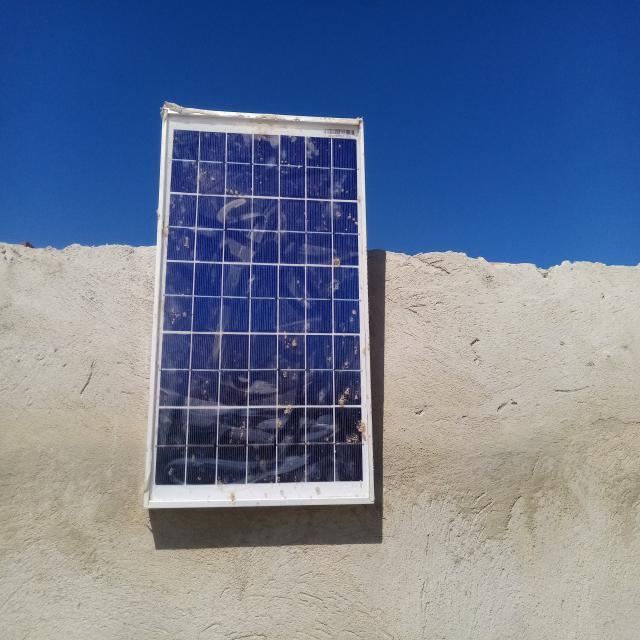faulty: (145, 113, 371, 509)
